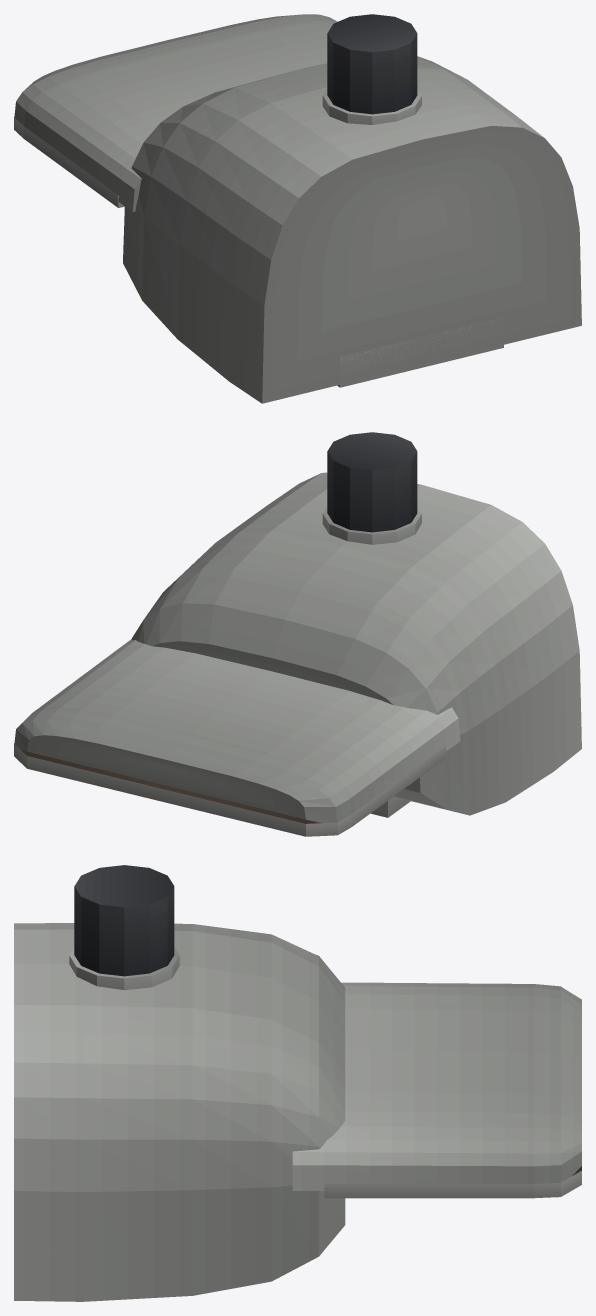
The model's file is streetlight_creeledwaysmall.obj.
3 views of the same model, one above another, from view 1: azimuth 30°, elevation 25°; view 2: azimuth 150°, elevation 25°; view 3: azimuth 270°, elevation 25° (orthographic). The views are drawn at different scales.
Visible parts, largest first — view 1: fixture; view 2: fixture; view 3: fixture.
Part boxes in pixels (bbox=[...]): fixture: bbox=[14, 14, 581, 403]; fixture: bbox=[14, 432, 581, 836]; fixture: bbox=[14, 865, 581, 1301].
Size of the model in its own units: 0.5 by 0.4344 by 0.675.
